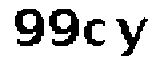9: (9, 9, 48, 49), (47, 7, 80, 54)
c: (84, 18, 107, 49)
y: (111, 16, 153, 58)
